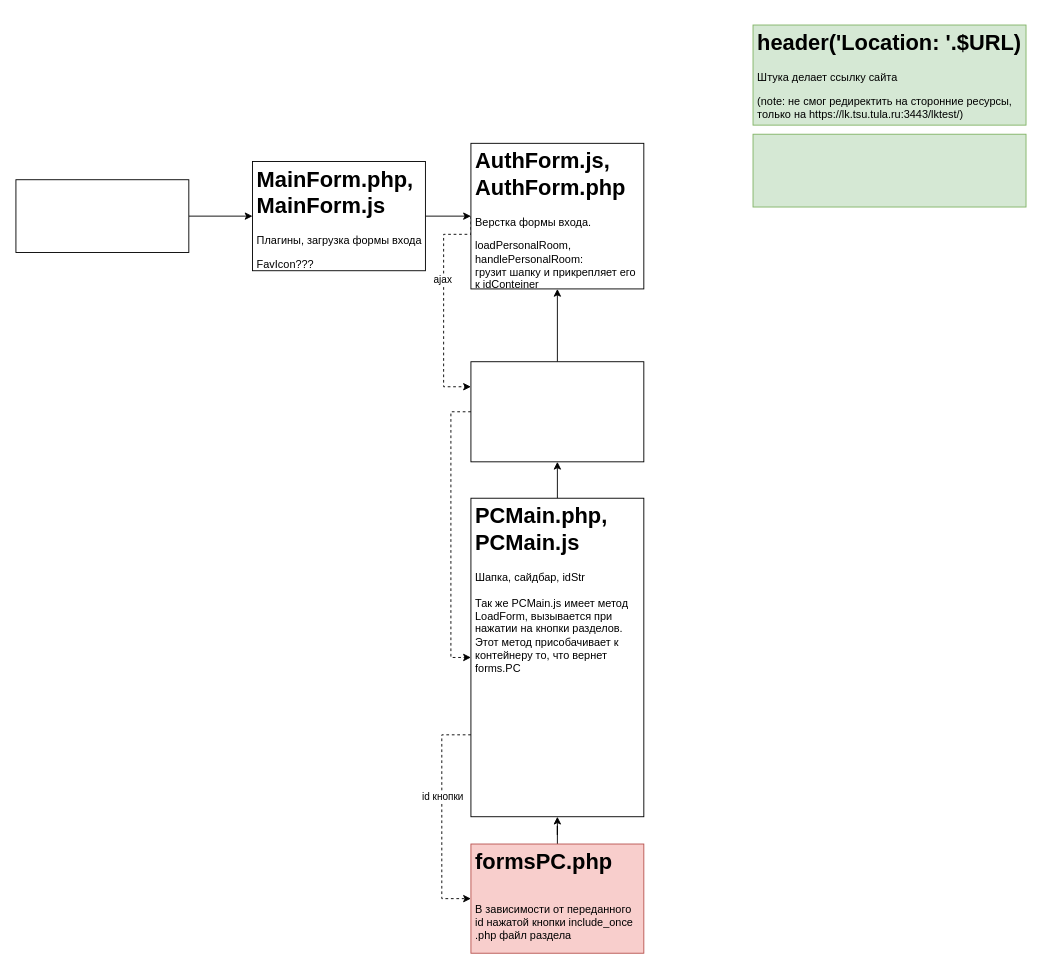
The diagram is 1042 pixels wide and 969 high, and some of its shapes have lost their labels. The shapes that lost their labels are listed below. From the top down, each one's centre as x and y in pixels, then its label:
(889,170): include() Наш бро для поключения контента
(102,216): index.php Начало начал
(557,411): forms.php В зависимости от формы входа разный контент
